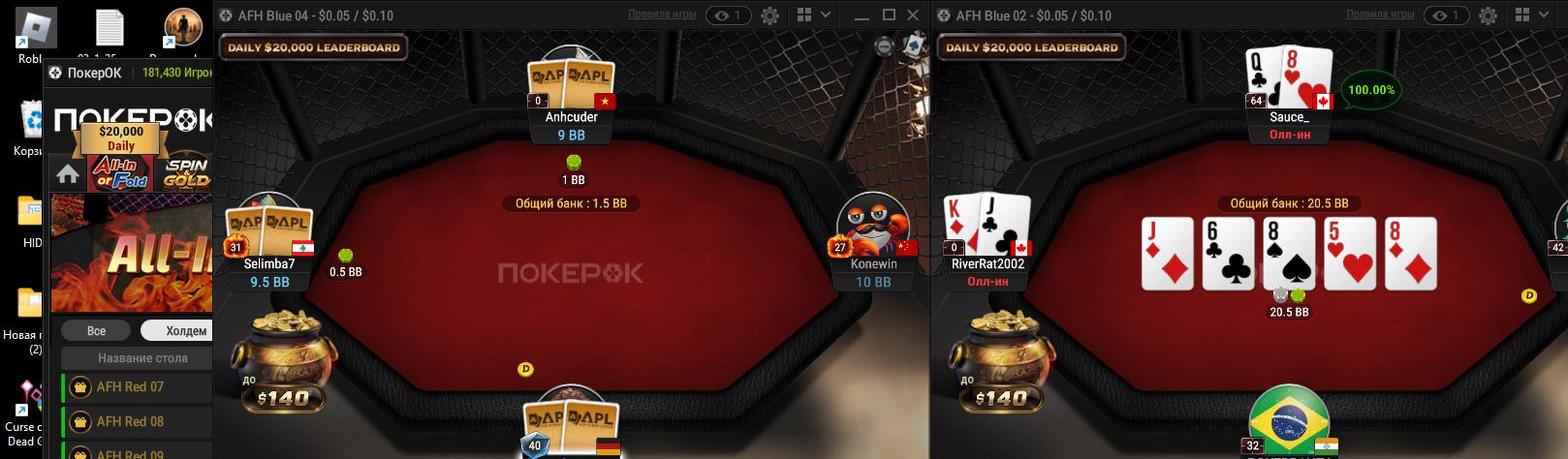5h: (1324, 217, 1378, 291)
6c: (1203, 219, 1256, 291)
8d: (1386, 218, 1434, 289)
8h: (1284, 46, 1332, 109)
8s: (1263, 217, 1315, 285)
Jc: (979, 190, 1029, 256)
Jd: (1141, 218, 1196, 289)
Kd: (943, 194, 980, 255)
Qc: (1245, 46, 1282, 110)
